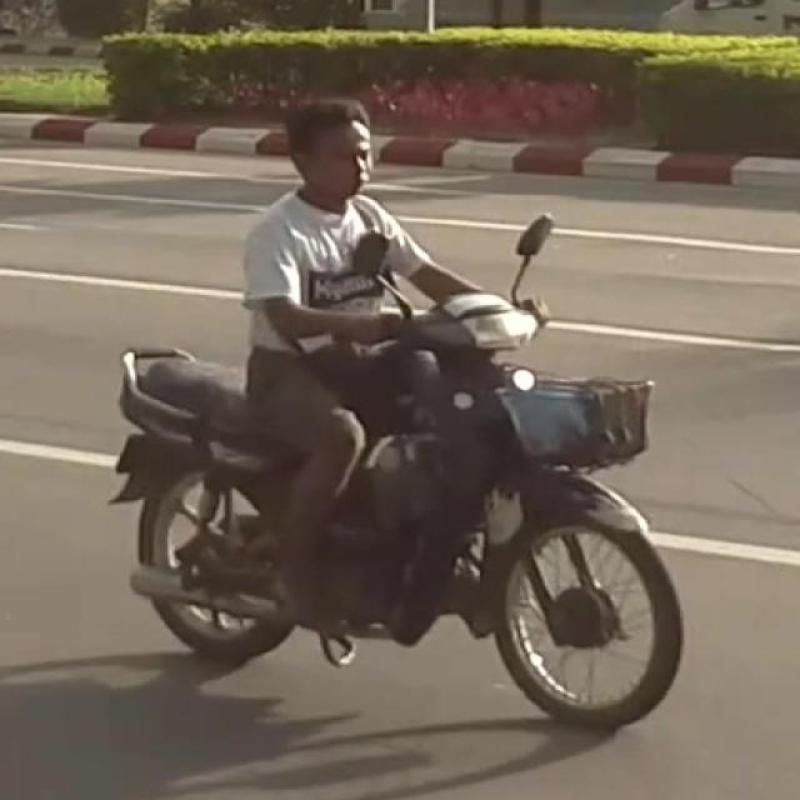nohelmet: (246, 78, 442, 244)
